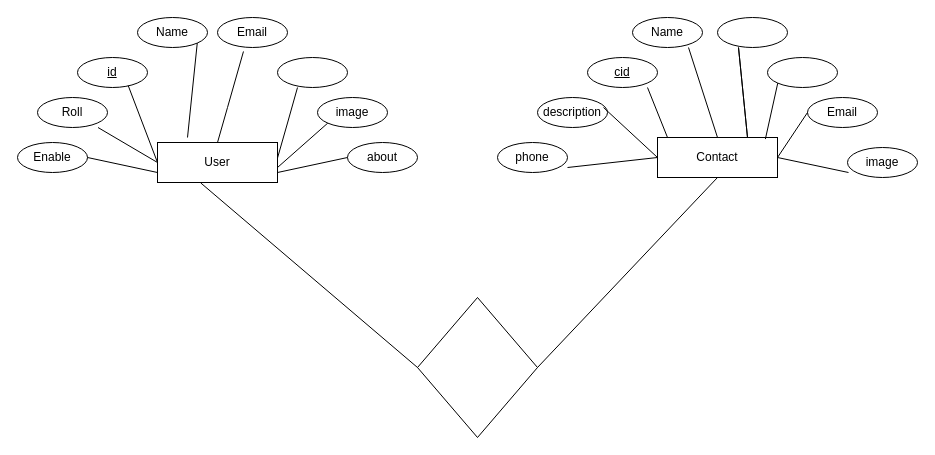
Some shapes in this 935 by 455 pixel diagram are drawn without their labels. The shapes that lost their labels are listed below. From the top down, each one's box as (x1, y1, x2, y2) in pixels, then its label:
(716, 16, 788, 48): nickName
(276, 56, 348, 88): Password
(766, 56, 838, 88): work
(416, 296, 538, 438): has
